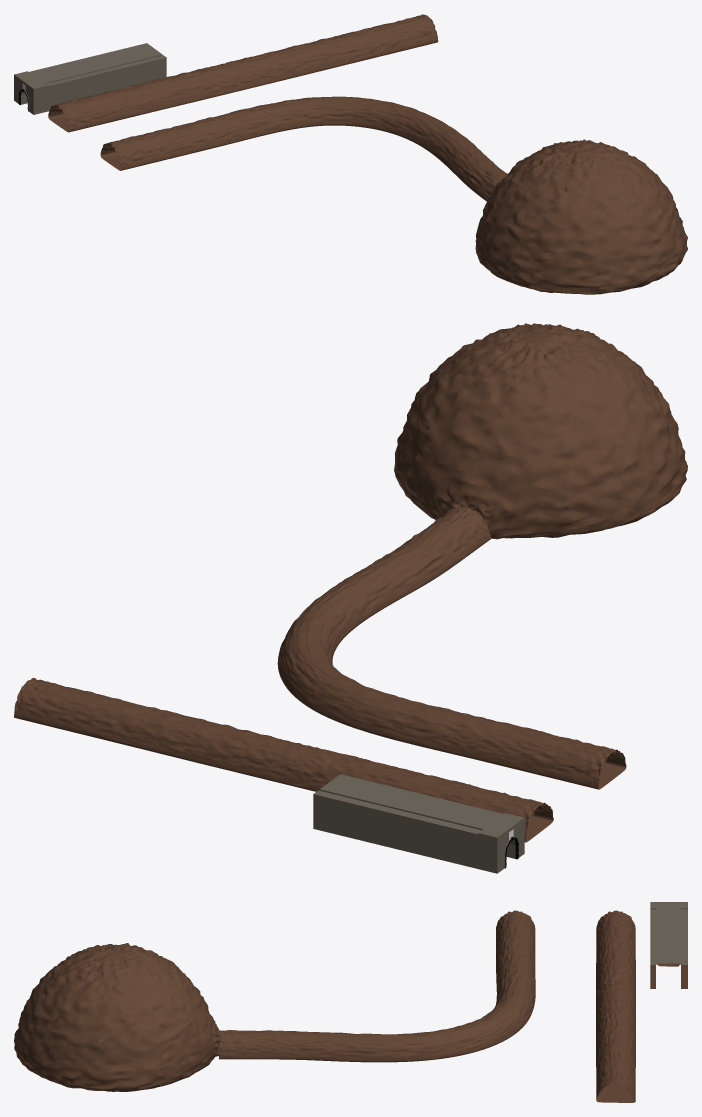
Rendered from Tunel.fbx.
3 renders of one model, top to bottom at view 1: azimuth 30°, elevation 25°; view 2: azimuth 150°, elevation 25°; view 3: azimuth 270°, elevation 25°, orthographic. The views are drawn at different scales.
Parts seen in each view (by area): view 1: Sphere, Cylinder.001, Cylinder, Cube; view 2: Sphere, Cylinder.001, Cylinder, Cube; view 3: Sphere, Cylinder.001, Cylinder, Cube.
Part boxes in pixels (left/top/right/bottom): Sphere: left=475, top=139, right=687, bottom=294; Cylinder.001: left=100, top=96, right=507, bottom=201; Cylinder: left=48, top=14, right=438, bottom=132; Cube: left=14, top=43, right=166, bottom=114; Sphere: left=394, top=323, right=687, bottom=539; Cylinder.001: left=277, top=507, right=626, bottom=789; Cylinder: left=14, top=678, right=553, bottom=842; Cube: left=313, top=774, right=524, bottom=873; Sphere: left=14, top=943, right=219, bottom=1091; Cylinder.001: left=218, top=910, right=535, bottom=1062; Cylinder: left=596, top=910, right=635, bottom=1102; Cube: left=650, top=902, right=687, bottom=988.
Size of the model in its own units: 10329 by 2786 by 16673.
